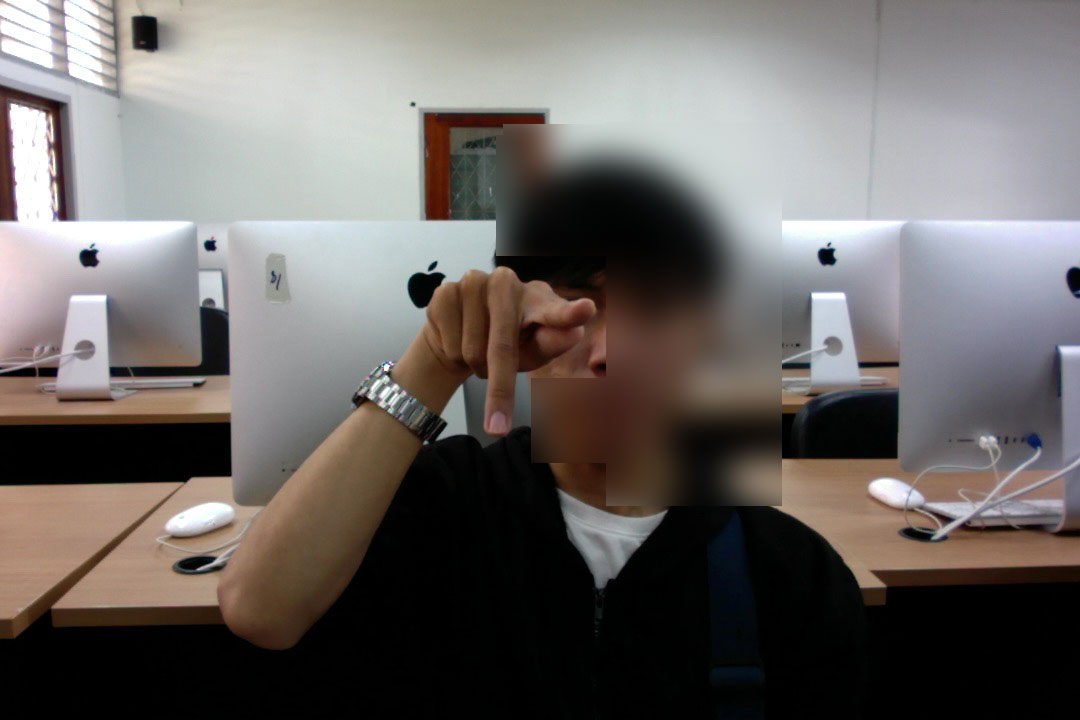por: (416, 258, 603, 440)
